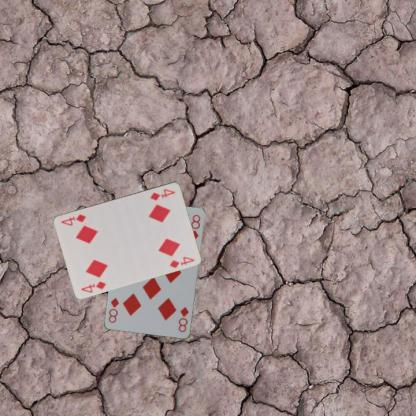4d: (78, 278, 108, 294), (148, 186, 176, 202)
8d: (176, 304, 190, 334)
